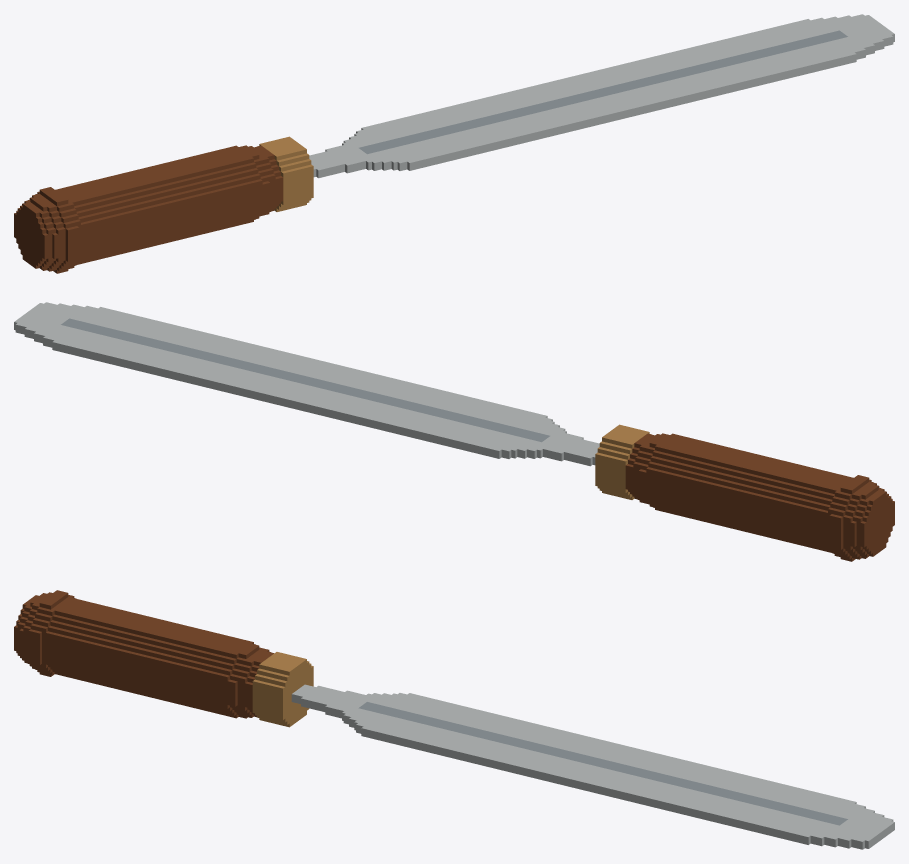
The model's file is honey_scraper.glb.
3 views of the same model, one above another, from view 1: azimuth 30°, elevation 25°; view 2: azimuth 150°, elevation 25°; view 3: azimuth 330°, elevation 25° (orthographic).
Visible parts, largest first — view 1: honey_scraper:compound; view 2: honey_scraper:compound; view 3: honey_scraper:compound.
Part boxes in pixels (left/top/right/bottom): honey_scraper:compound: left=14, top=14, right=894, bottom=273; honey_scraper:compound: left=14, top=302, right=894, bottom=561; honey_scraper:compound: left=14, top=590, right=894, bottom=849.
Bounding box in the file's own units: 0.45 × 0.036 × 0.044.
